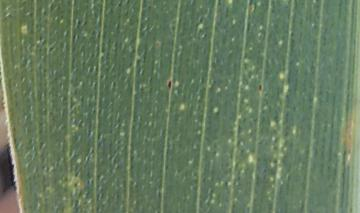tarspot: (254, 80, 267, 98), (164, 77, 176, 93)
